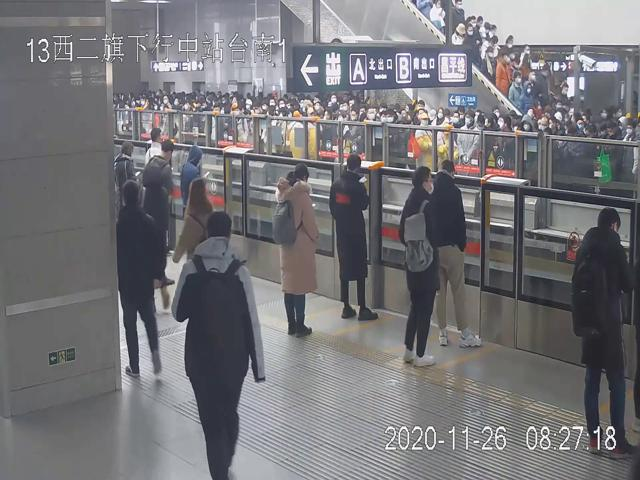person: (172, 212, 267, 480), (571, 208, 638, 459), (116, 182, 166, 379), (434, 159, 484, 349), (399, 166, 440, 366), (329, 155, 378, 319), (276, 162, 319, 337)
